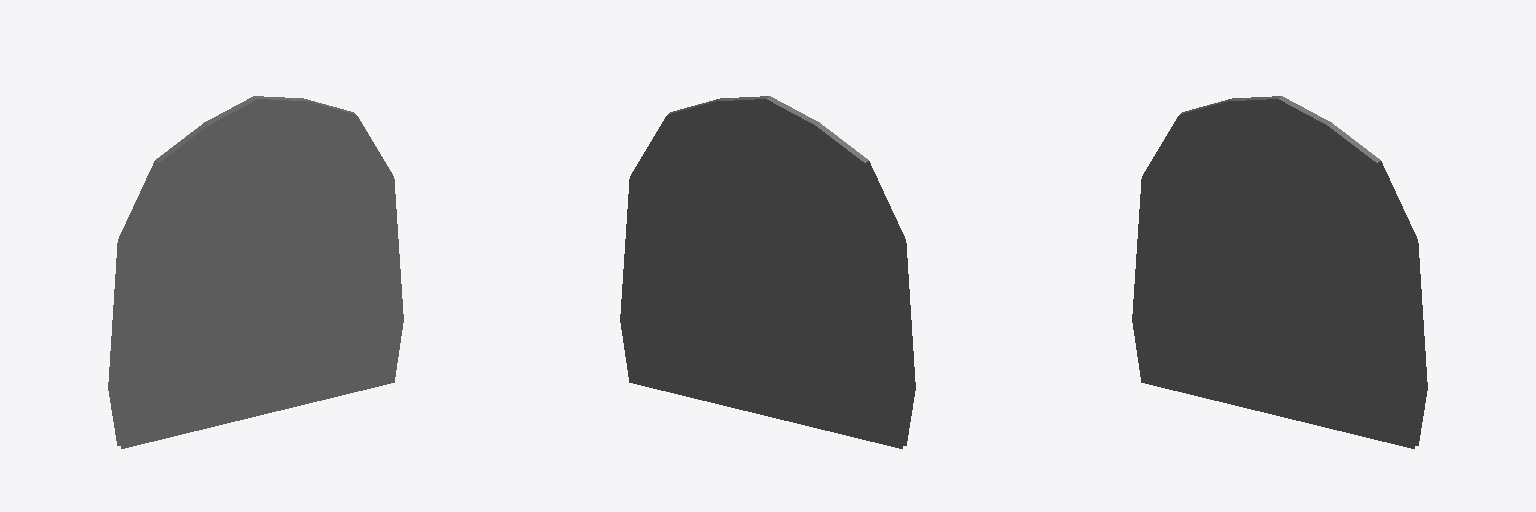
File: portalcore.obj
3 views of the same model, side by side, from view 1: azimuth 30°, elevation 25°; view 2: azimuth 150°, elevation 25°; view 3: azimuth 330°, elevation 25° (orthographic).
Visible parts, largest first — view 1: polySurface54 pCube42; view 2: polySurface54 pCube42; view 3: polySurface54 pCube42.
Part boxes in pixels (x1,y1,x2,y2): polySurface54 pCube42: (108,96,403,448); polySurface54 pCube42: (620,96,915,448); polySurface54 pCube42: (1132,96,1427,448).
Size of the model in its own units: 4.86 by 5.04 by 0.1175.